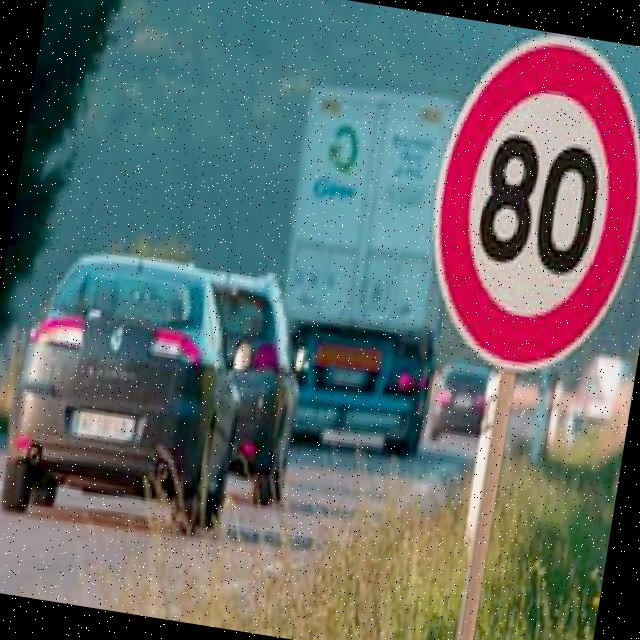Ograniczenie predkosci do 80: (436, 61, 638, 346)
